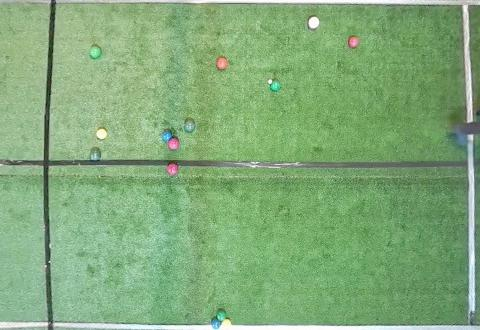blue: (162, 130, 172, 142), (212, 318, 221, 329)
green: (90, 45, 101, 58), (90, 148, 101, 161), (184, 120, 195, 132), (217, 309, 227, 321), (271, 81, 281, 91)
red: (167, 163, 179, 175), (168, 137, 179, 150), (216, 58, 227, 70), (308, 17, 319, 29), (348, 37, 359, 48)
vline: (1, 0, 56, 329), (465, 134, 479, 330), (461, 0, 479, 124)
white: (268, 79, 272, 84)
yellow: (96, 128, 107, 139), (221, 319, 232, 329)
